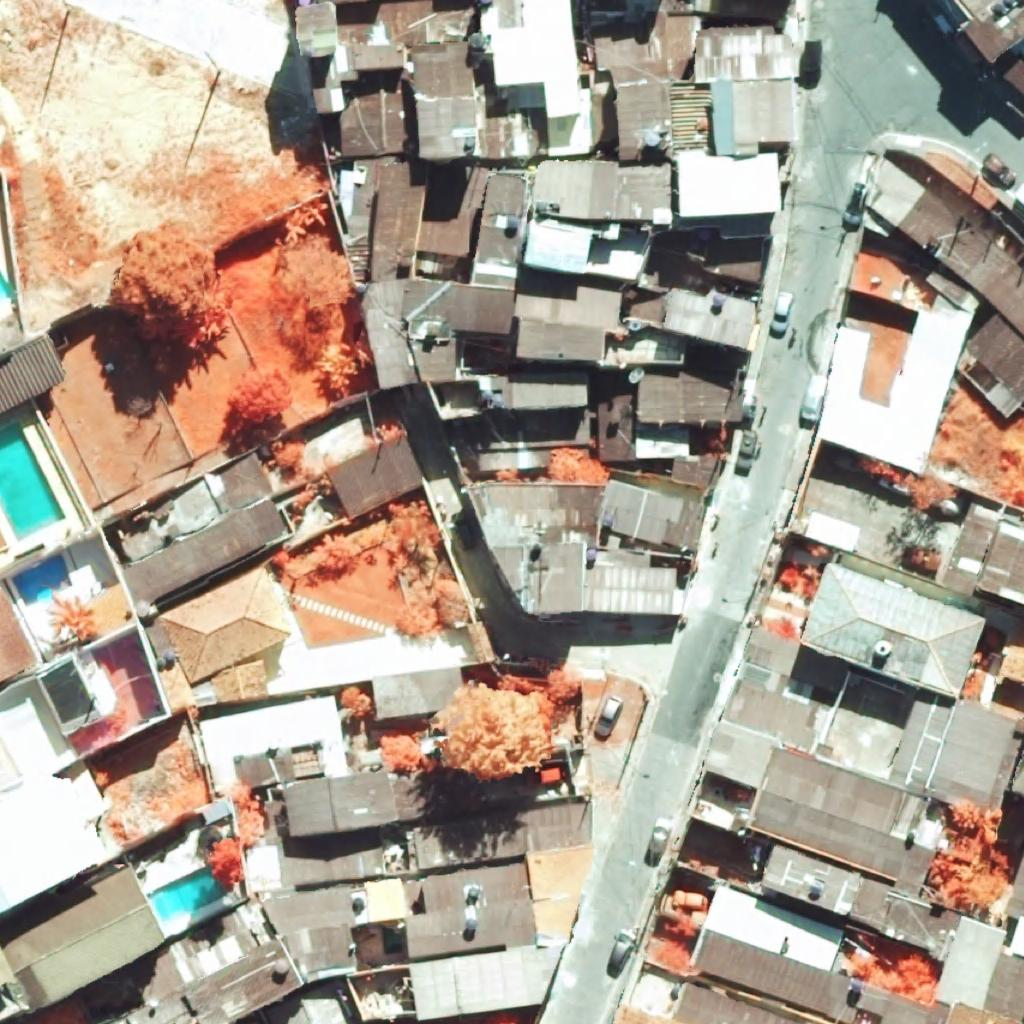pool: (147, 866, 226, 922), (12, 554, 69, 606)
